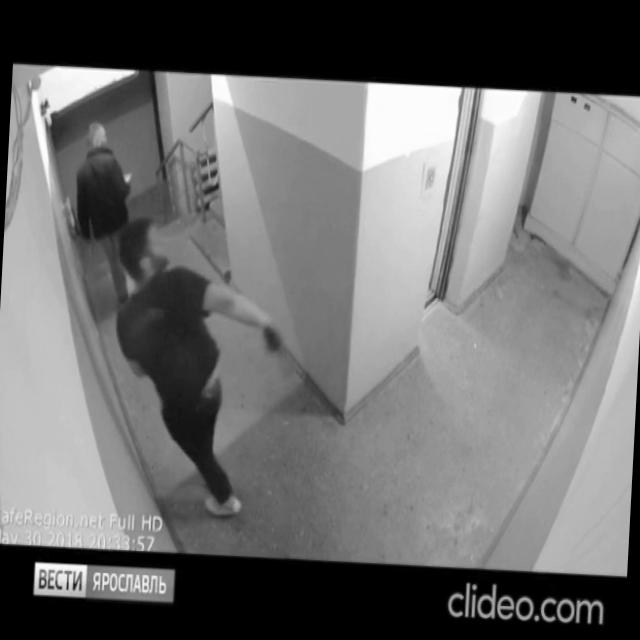gun: (258, 318, 296, 369)
person: (68, 118, 150, 312)
person with a gun: (99, 208, 303, 524)
